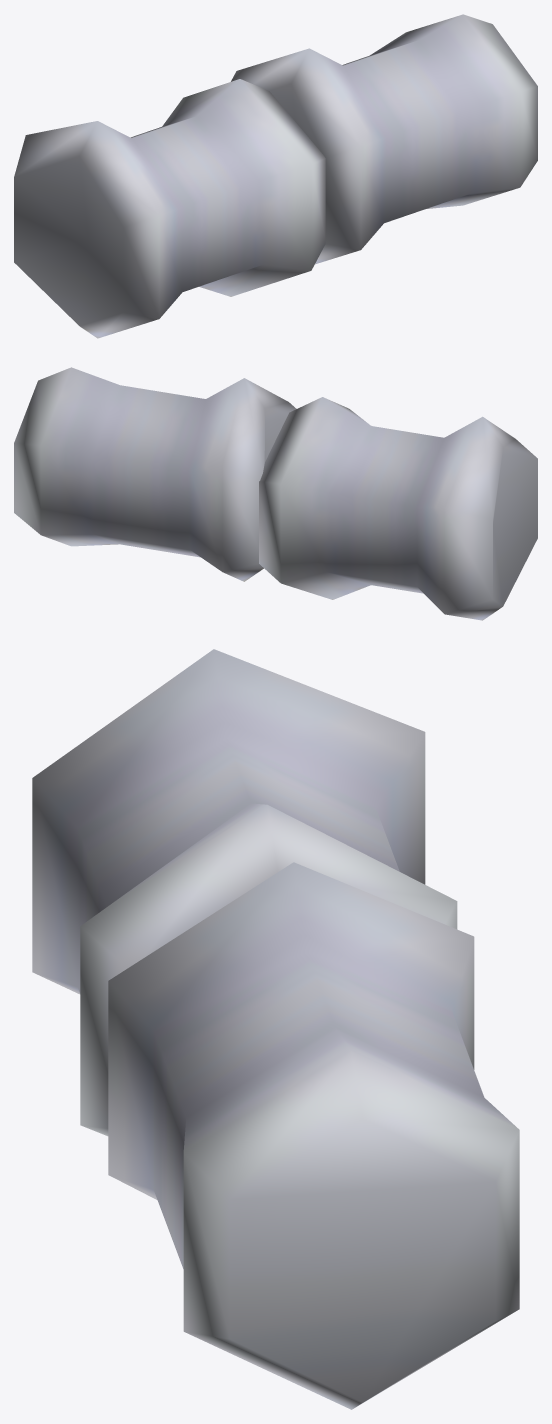
Rendered from HBrazoI.obj.
3 views of the same model, one above another, from view 1: azimuth 30°, elevation 25°; view 2: azimuth 150°, elevation 25°; view 3: azimuth 270°, elevation 25° (orthographic). The views are drawn at different scales.
Visible parts, largest first — view 1: L_foreArm; view 2: L_foreArm; view 3: L_foreArm.
Boxes of the visible parts, bbox=[...] form: L_foreArm: bbox=[14, 14, 537, 338]; L_foreArm: bbox=[14, 367, 537, 620]; L_foreArm: bbox=[32, 649, 519, 1409].
Bounding box in the file's own units: 0.3786 × 0.1631 × 0.1735.
Materials: 2 (2 with a texture image).
